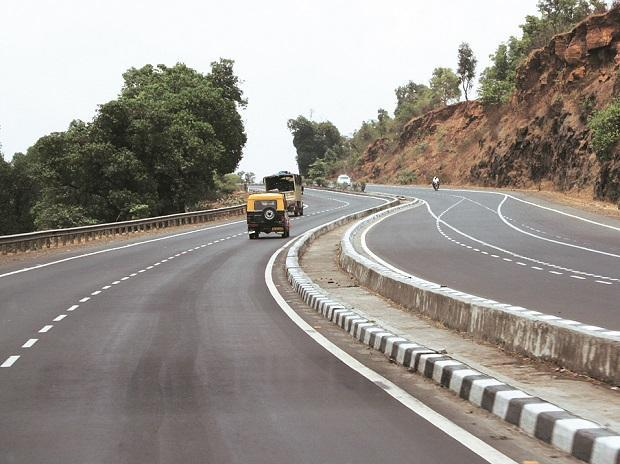car: (257, 169, 312, 220), (243, 190, 290, 239)
